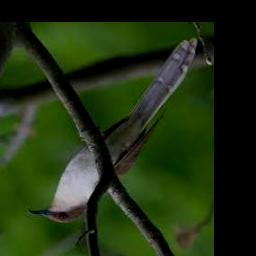Cuckoo: (28, 38, 198, 223)
